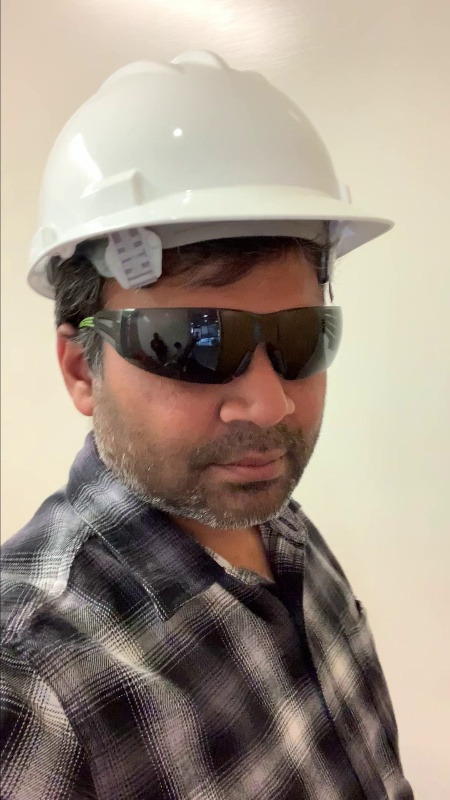glasses: (117, 294, 351, 390)
helmet: (21, 45, 394, 284)
